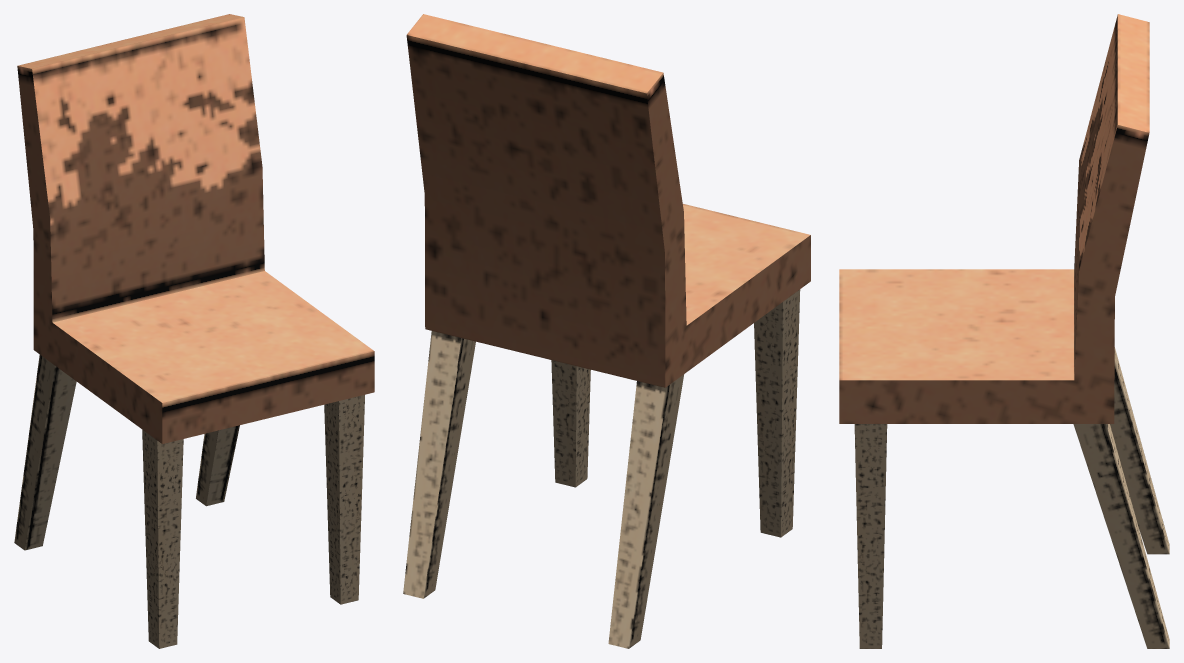
The model's file is Chair.fbx.
3 renders of one model, left to right at view 1: azimuth 30°, elevation 25°; view 2: azimuth 150°, elevation 25°; view 3: azimuth 270°, elevation 25°, orthographic. The views are drawn at different scales.
Parts seen in each view (by area): view 1: polySurface439; view 2: polySurface439; view 3: polySurface439.
Part boxes in pixels (left/top/right/bottom): polySurface439: left=14, top=14, right=374, bottom=648; polySurface439: left=403, top=14, right=810, bottom=648; polySurface439: left=839, top=14, right=1169, bottom=648.
Bounding box in the file's own units: 62.45 × 139 × 78.67.
